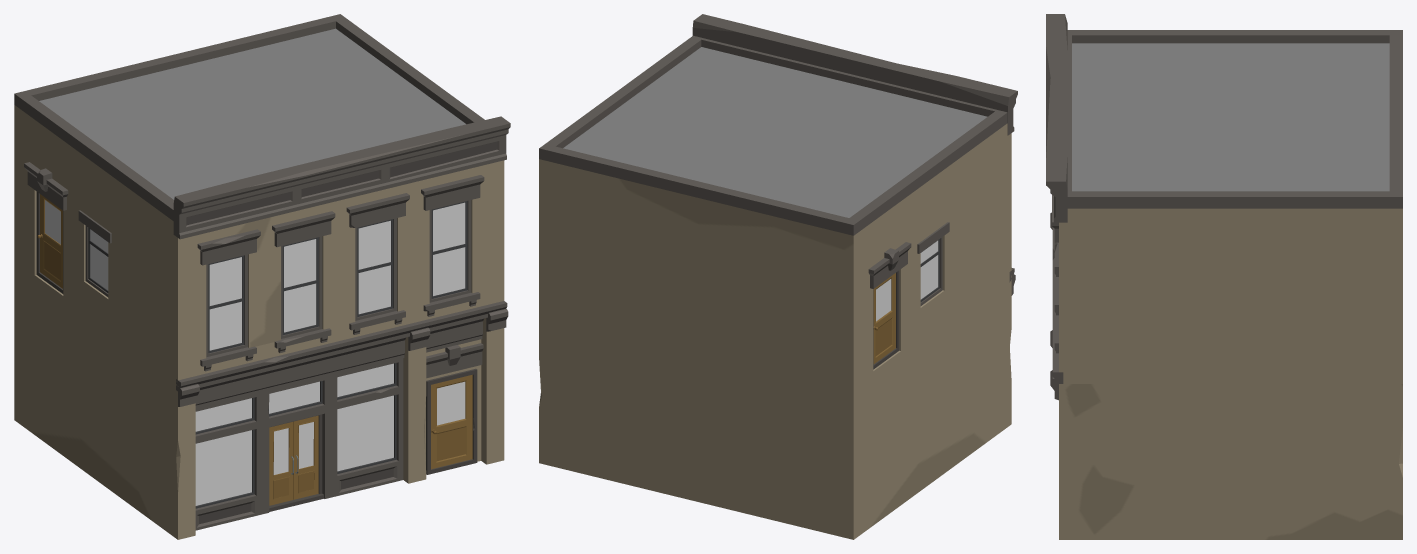
The model's file is SM_Bldg_City_Shop_06.fbx.
3 renders of one model, left to right at view 1: azimuth 30°, elevation 25°; view 2: azimuth 150°, elevation 25°; view 3: azimuth 270°, elevation 25°, orthographic. The views are drawn at different scales.
Visible parts, largest first — view 1: SM_Bldg_City_Shop_06, SM_Bldg_City_Shop_06_Glass; view 2: SM_Bldg_City_Shop_06, SM_Bldg_City_Shop_06_Glass; view 3: SM_Bldg_City_Shop_06.
Part boxes in pixels (left/top/right/bottom): SM_Bldg_City_Shop_06: left=14, top=14, right=510, bottom=539; SM_Bldg_City_Shop_06_Glass: left=90, top=202, right=465, bottom=505; SM_Bldg_City_Shop_06: left=539, top=14, right=1017, bottom=539; SM_Bldg_City_Shop_06_Glass: left=920, top=240, right=938, bottom=299; SM_Bldg_City_Shop_06: left=1046, top=14, right=1402, bottom=539.
Bounding box in the file's own units: 946 × 920 × 830.
